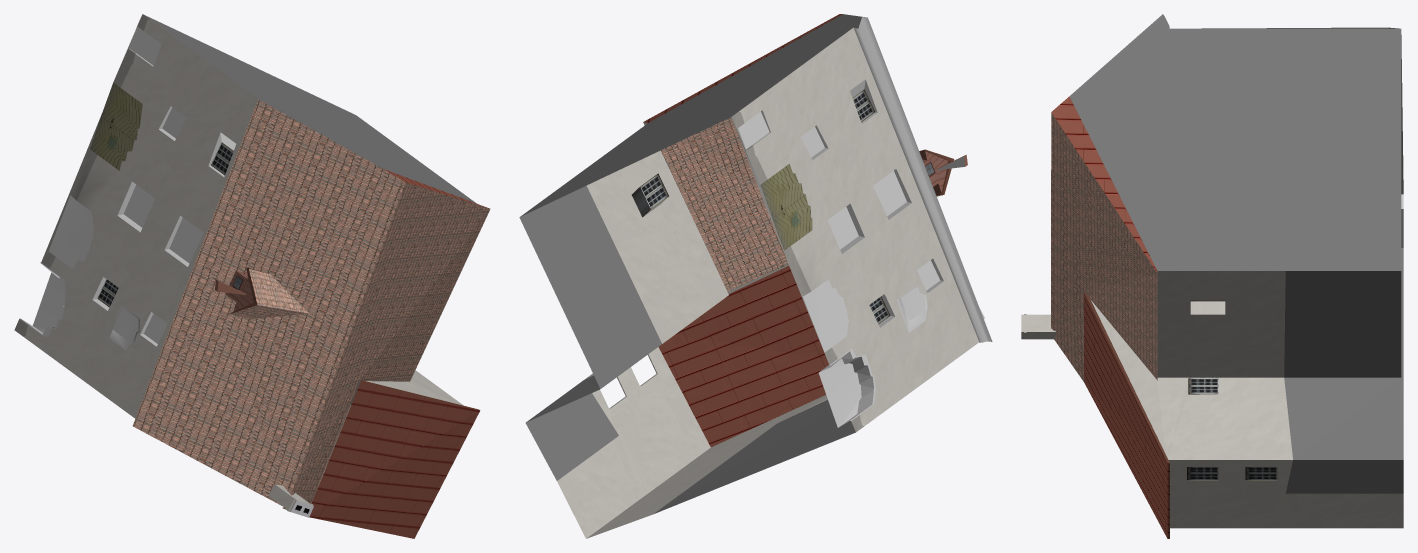
Rendered from Lai-30-origo.obj.
The picture shows the model from 3 angles, left to right: view 1: azimuth 30°, elevation 25°; view 2: azimuth 150°, elevation 25°; view 3: azimuth 270°, elevation 25°; orthographic projection. The views are drawn at different scales.
Visible parts, largest first — view 1: lai30; view 2: lai30; view 3: lai30.
Part boxes in pixels (x1,y1,x2,y2): lai30: (14,14,490,538); lai30: (519,14,992,538); lai30: (1021,14,1403,538).
Size of the model in its own units: 18.19 by 23.5 by 18.02.
